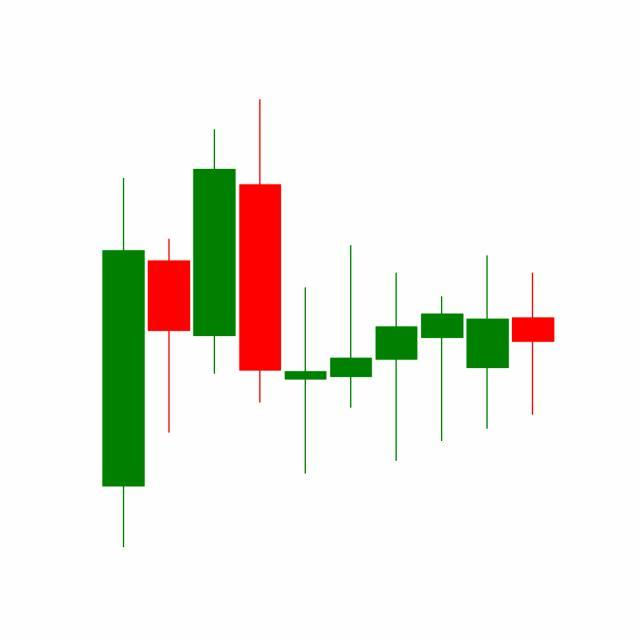Hikkake Pattern: (283, 244, 512, 478)
